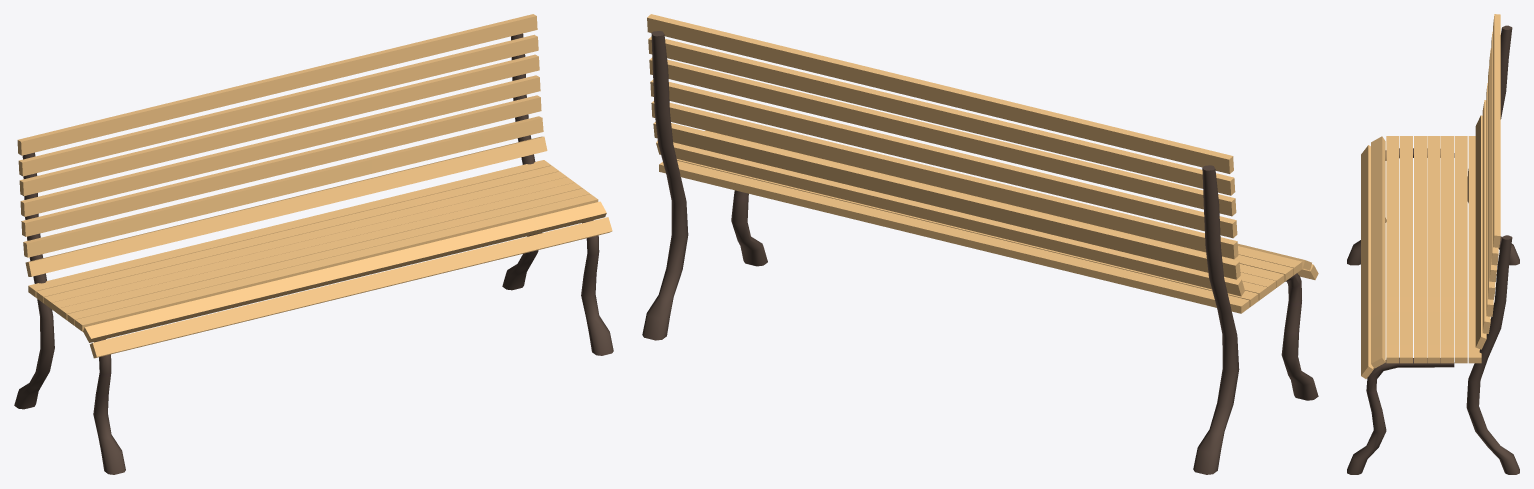
Rendered from bench.gltf.
The picture shows the model from 3 angles, left to right: view 1: azimuth 30°, elevation 25°; view 2: azimuth 150°, elevation 25°; view 3: azimuth 270°, elevation 25°; orthographic projection. The views are drawn at different scales.
Visible parts, largest first — view 1: Lo-BenchA_01; view 2: Lo-BenchA_01; view 3: Lo-BenchA_01.
Boxes of the visible parts, x1,y1,x2,y2 form: Lo-BenchA_01: (14, 14, 613, 474); Lo-BenchA_01: (642, 14, 1318, 474); Lo-BenchA_01: (1347, 14, 1519, 474).
Bounding box in the file's own units: 1.67 × 0.8479 × 0.5497.
Materials: 1 (1 with a texture image).
